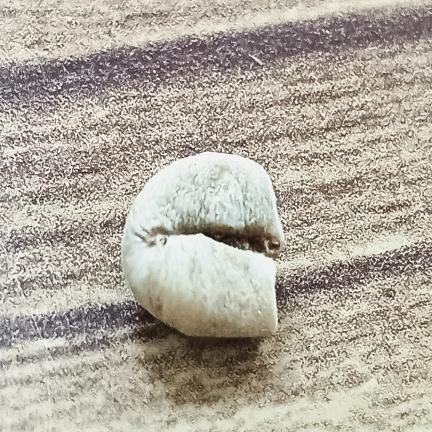broken: (122, 153, 284, 337)
